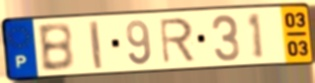1: (246, 10, 264, 61)
3: (211, 13, 241, 63)
9: (124, 18, 153, 67)
B: (35, 21, 77, 73)
I: (87, 19, 105, 71)
R: (157, 16, 197, 66)
